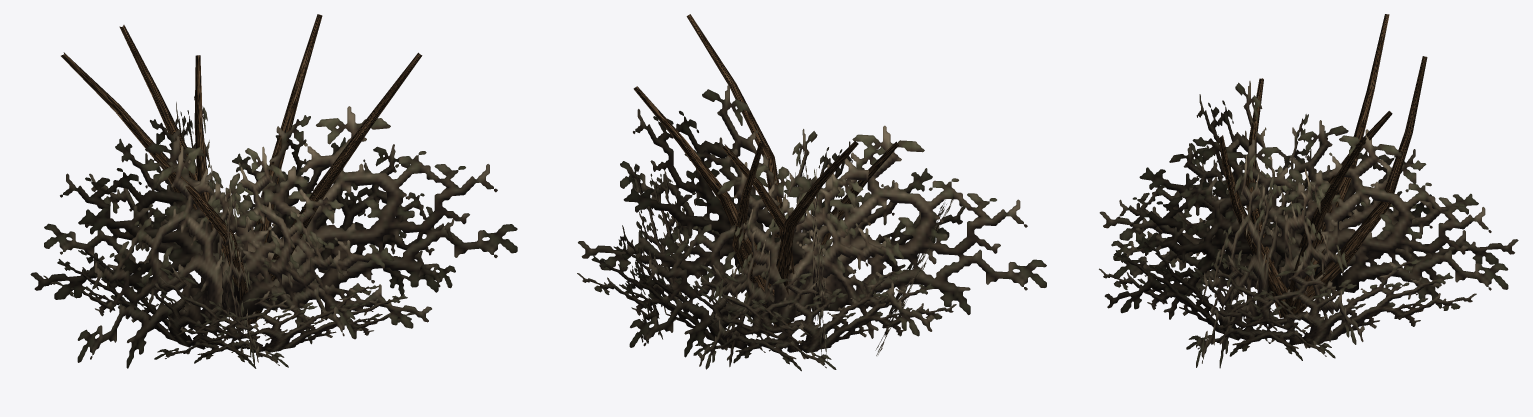
The model's file is Arbusto-Espinhoso-02-Alto.glb.
3 renders of one model, left to right at view 1: azimuth 30°, elevation 25°; view 2: azimuth 150°, elevation 25°; view 3: azimuth 270°, elevation 25°, orthographic. The views are drawn at different scales.
Parts seen in each view (by area): view 1: Arbusto-Espinhoso-02-Alto; view 2: Arbusto-Espinhoso-02-Alto; view 3: Arbusto-Espinhoso-02-Alto.
Part boxes in pixels (x1,y1,x2,y2): Arbusto-Espinhoso-02-Alto: (30,14,517,368); Arbusto-Espinhoso-02-Alto: (577,14,1046,371); Arbusto-Espinhoso-02-Alto: (1099,14,1518,368).
Size of what is drawn, in the model's own units: 2.04 by 1.17 by 1.9.
2 materials, 2 textured.
